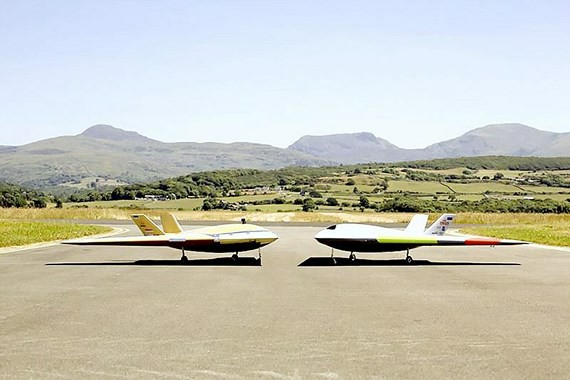maybay_khongnguoilai: (76, 205, 277, 267), (310, 212, 522, 260)
